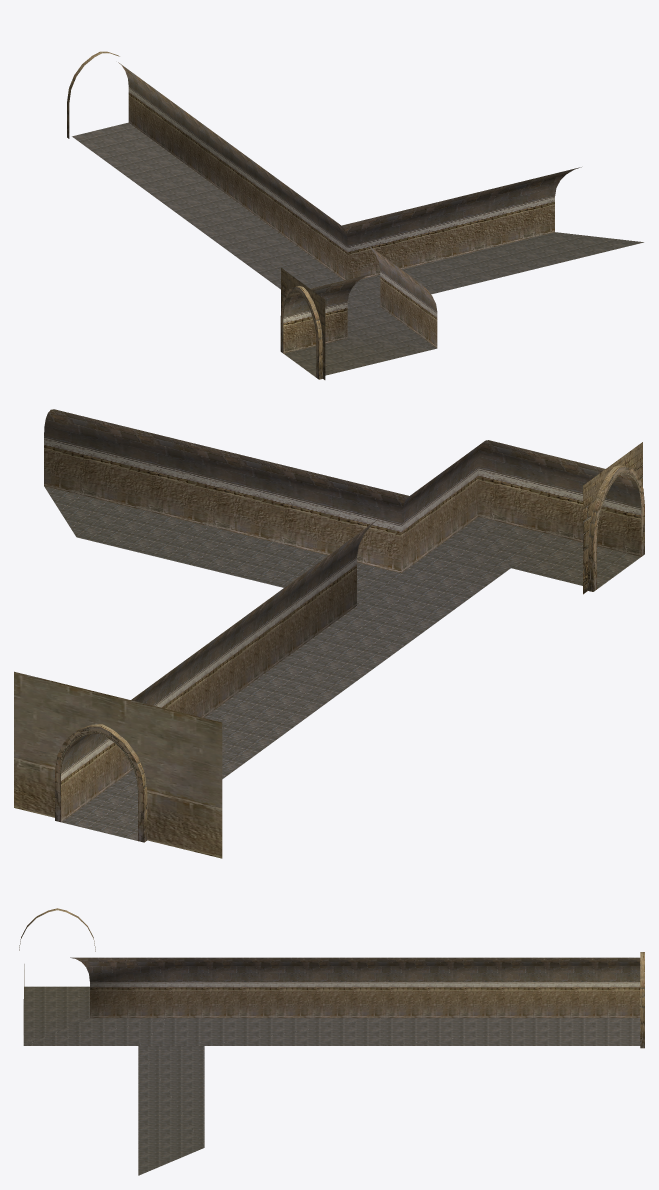
Rendered from M7Z4_Tunnel4.glb.
The picture shows the model from 3 angles, top to bottom: view 1: azimuth 30°, elevation 25°; view 2: azimuth 150°, elevation 25°; view 3: azimuth 270°, elevation 25°; orthographic projection. The views are drawn at different scales.
Visible parts, largest first — view 1: M7Z4_TUNNEL4; view 2: M7Z4_TUNNEL4; view 3: M7Z4_TUNNEL4.
Part boxes in pixels (left/top/right/bottom): M7Z4_TUNNEL4: left=67, top=51, right=643, bottom=379; M7Z4_TUNNEL4: left=14, top=409, right=644, bottom=858; M7Z4_TUNNEL4: left=19, top=908, right=644, bottom=1175.
Size of the model in its own units: 20.01 by 5 by 28.2.
5 materials, 5 textured.
